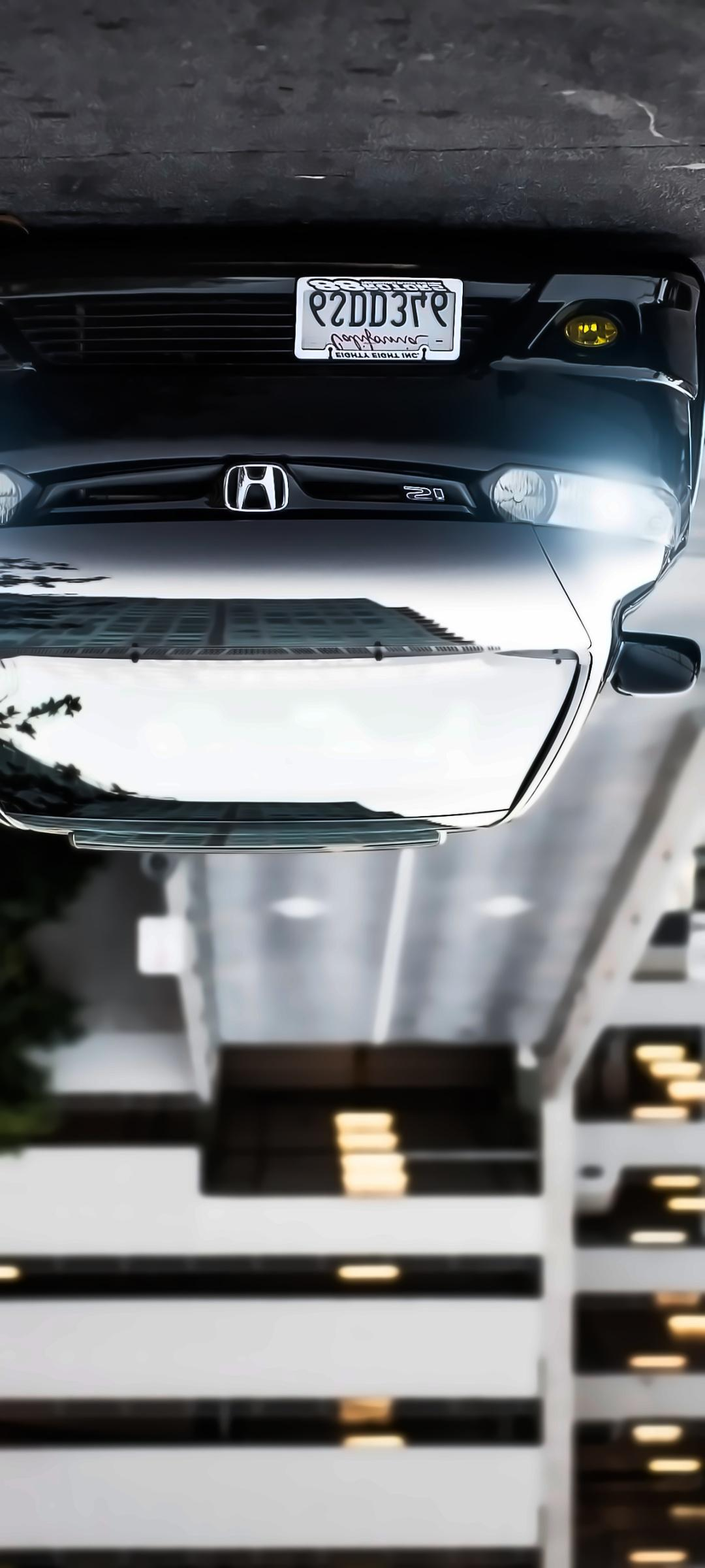Car hood: (0, 497, 621, 667)
Front bumper: (0, 205, 705, 464)
Headlight - -R-: (490, 460, 681, 574)
Side mirror - -R-: (607, 632, 705, 706)
